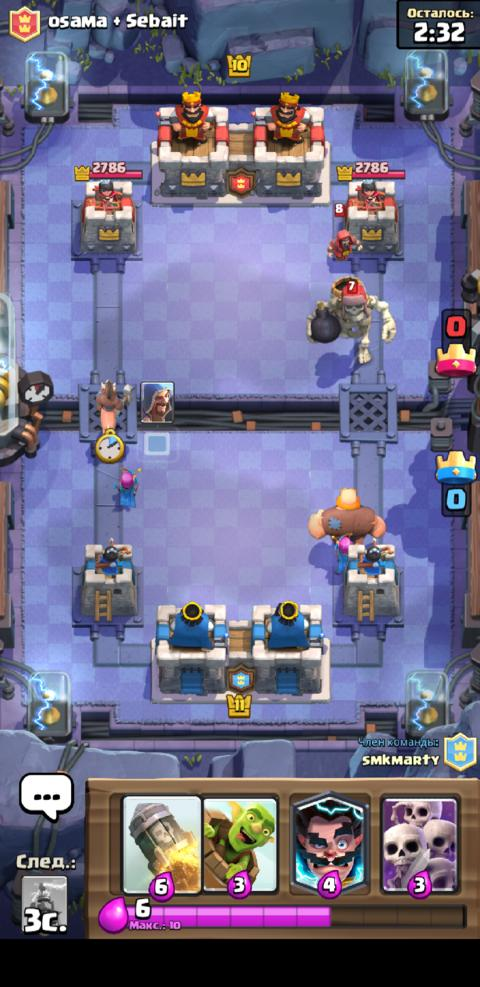ally_archer: (111, 464, 142, 507), (330, 532, 354, 574)
ally_giant: (307, 487, 387, 543)
ally_hog_rider: (94, 378, 134, 434)
enemy_giant_skeleton: (304, 274, 397, 366)
enemy_wizard: (324, 203, 362, 263)
